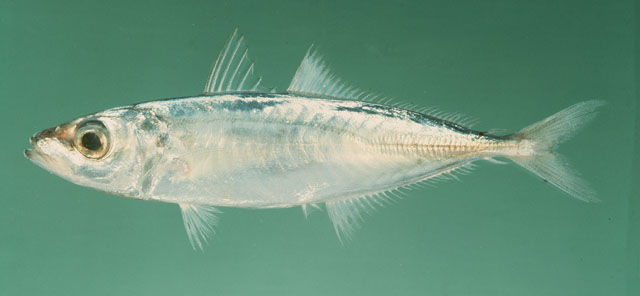fish: (23, 25, 608, 256)
